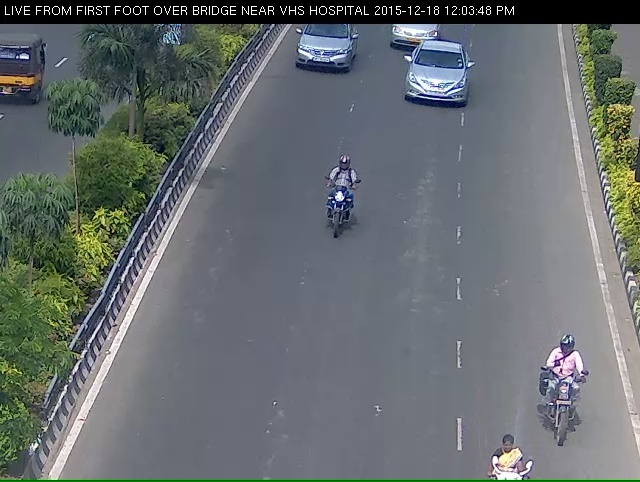Car: (406, 49, 468, 120), (287, 28, 357, 81), (384, 20, 439, 56)
Person: (537, 351, 593, 469), (305, 177, 359, 262)
